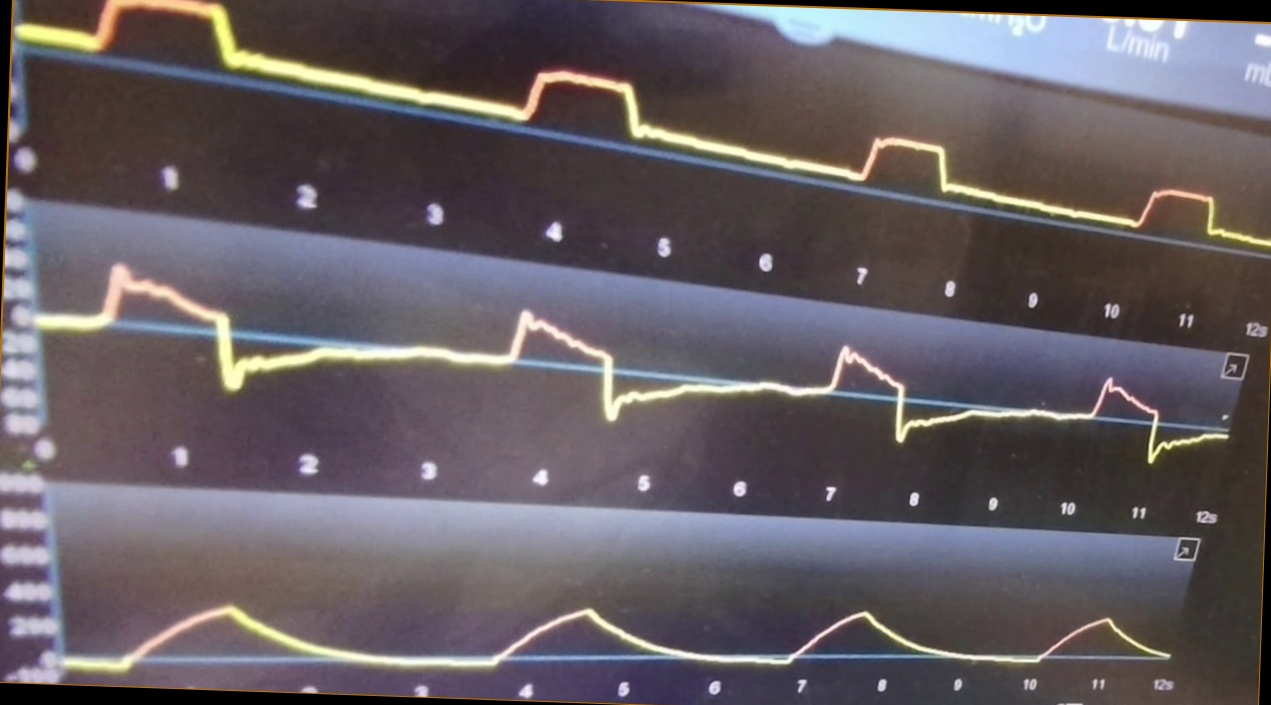Accumulation Flow: (51, 268, 1228, 464)
Volume: (66, 591, 1173, 679)
